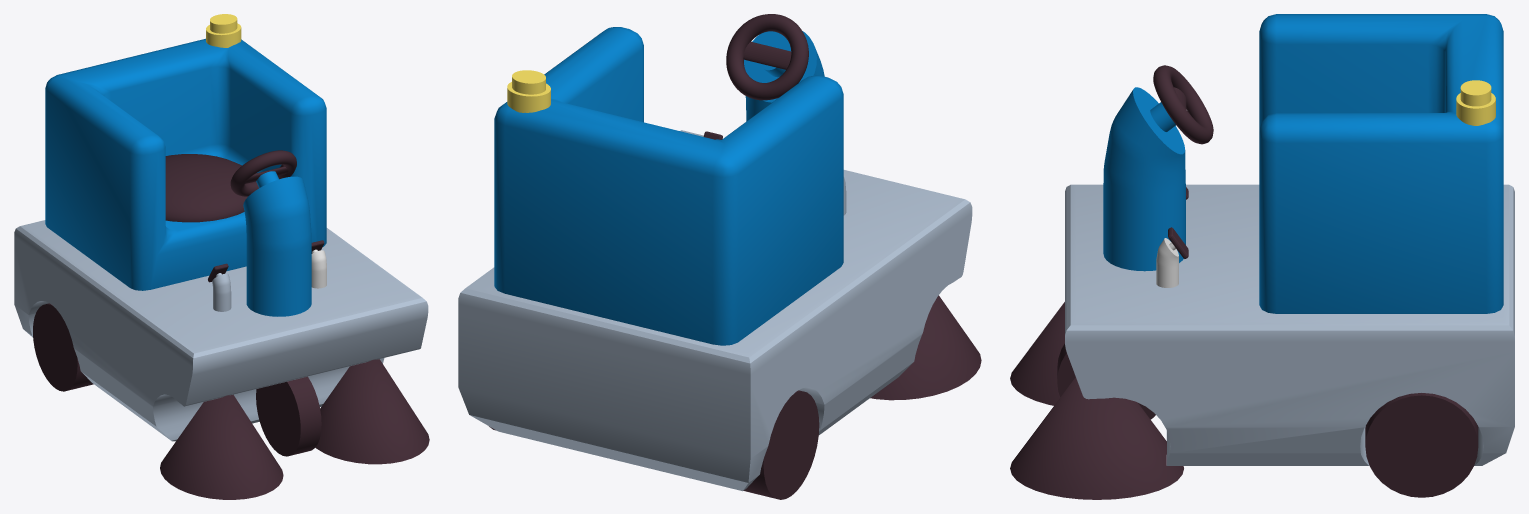
The model's file is Cleaner.fbx.
3 views of the same model, side by side, from view 1: azimuth 30°, elevation 25°; view 2: azimuth 150°, elevation 25°; view 3: azimuth 270°, elevation 25° (orthographic). The views are drawn at different scales.
Parts seen in each view (by area): view 1: Sphere; view 2: Sphere; view 3: Sphere.
Boxes of the visible parts, x1=… form: Sphere: x1=14, y1=14, x2=429, y2=499; Sphere: x1=458, y1=14, x2=981, y2=499; Sphere: x1=1010, y1=14, x2=1514, y2=499.
Size of the model in its own units: 904 by 1066 by 1261.
